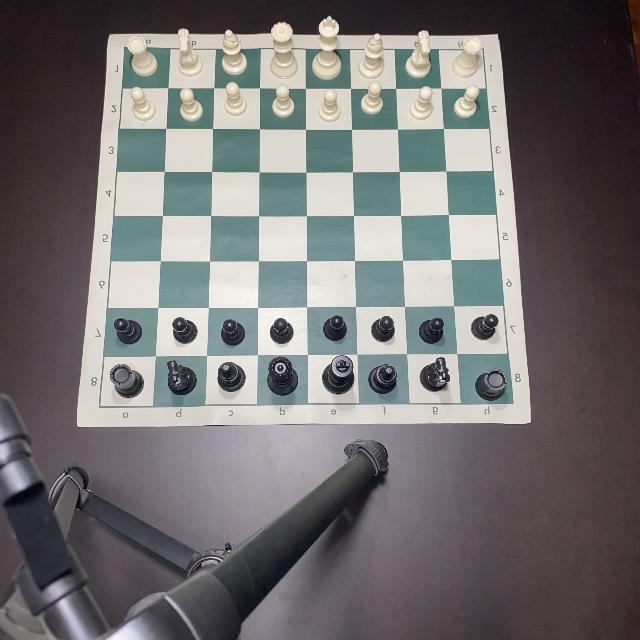black-bishop: (368, 364, 398, 394), (218, 362, 246, 392)
black-king: (322, 355, 354, 395)
black-knight: (420, 358, 450, 392), (167, 361, 197, 395)
black-pawn: (114, 317, 142, 345), (470, 315, 498, 341), (220, 319, 246, 347), (172, 317, 198, 343), (419, 318, 443, 344), (370, 316, 394, 342), (322, 316, 346, 342), (270, 318, 294, 344)
black-queen: (267, 356, 299, 396)
black-rook: (110, 364, 144, 398), (474, 369, 506, 401)
board: (78, 33, 532, 427)
white-bishop: (358, 34, 384, 78), (222, 30, 246, 74)
white-king: (312, 15, 342, 80)
white-knight: (405, 30, 431, 78), (176, 28, 202, 76)
white-pawn: (179, 86, 203, 124), (132, 87, 156, 121), (454, 85, 478, 118), (361, 80, 384, 114), (410, 86, 432, 120), (318, 88, 340, 122), (272, 84, 294, 118), (224, 82, 246, 116)
white-queen: (270, 22, 298, 80)
white-rook: (128, 34, 158, 78), (451, 36, 481, 78)
